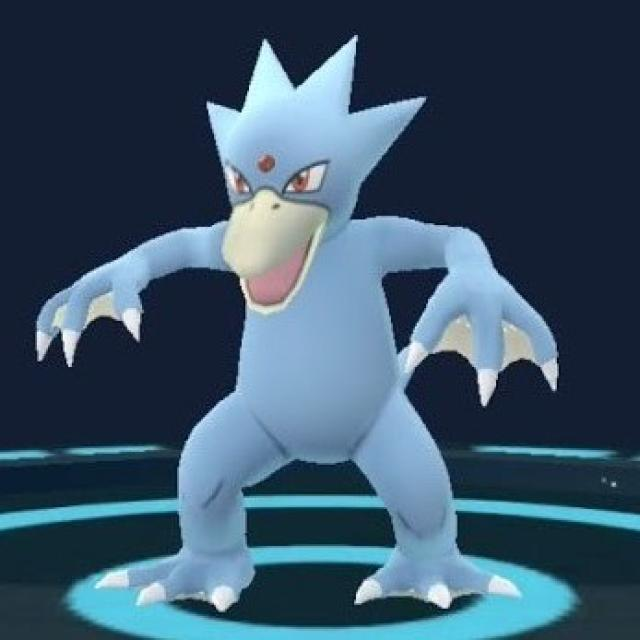Golduck: (89, 44, 511, 611)
